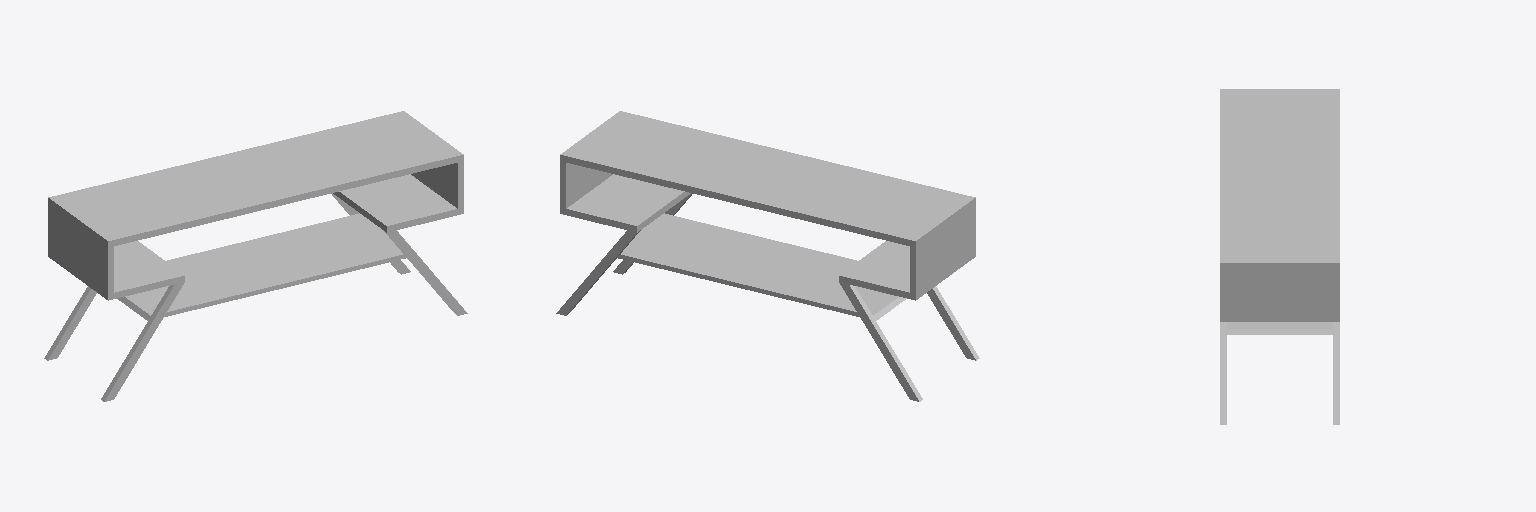
Rendered from tvTable.obj.
The picture shows the model from 3 angles: view 1: azimuth 30°, elevation 25°; view 2: azimuth 150°, elevation 25°; view 3: azimuth 270°, elevation 25°; orthographic projection.
Visible parts, largest first — view 1: Group_001; view 2: Group_001; view 3: Group_001.
Part boxes in pixels (x1,y1,x2,y2): Group_001: (44, 111, 467, 401); Group_001: (556, 111, 979, 401); Group_001: (1220, 89, 1339, 424).
Bounding box in the file's own units: 51.23 × 21.52 × 14.61.